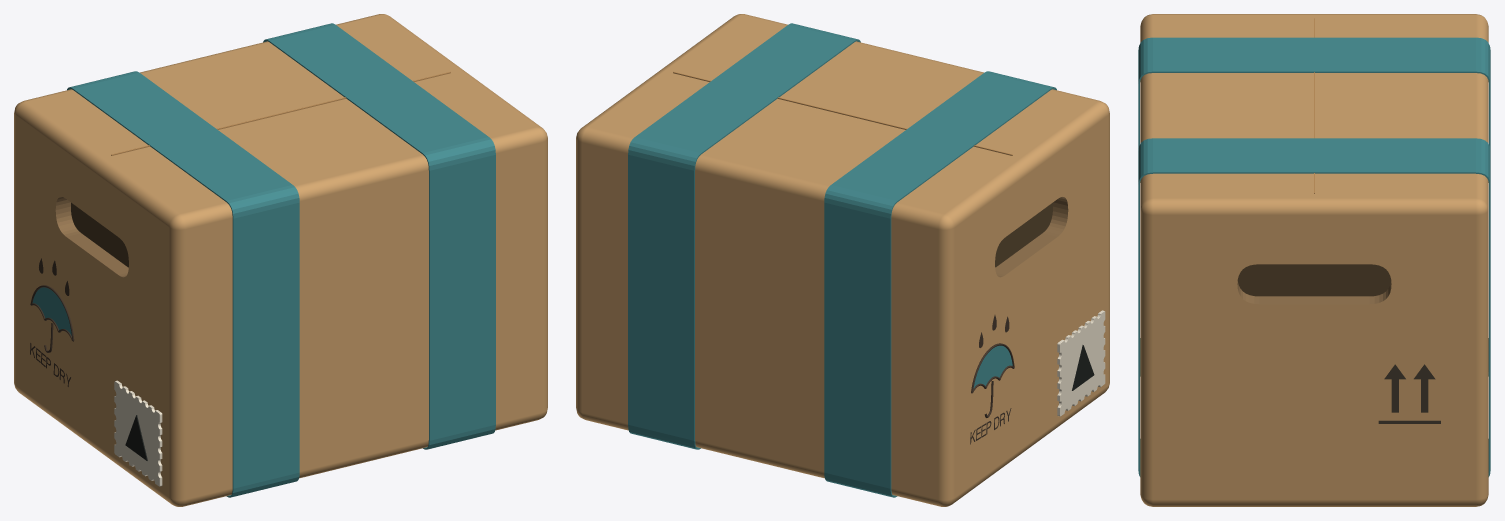
The model's file is play-parcel-large-teal.glb.
3 renders of one model, left to right at view 1: azimuth 30°, elevation 25°; view 2: azimuth 150°, elevation 25°; view 3: azimuth 270°, elevation 25°, orthographic. The views are drawn at different scales.
Parts seen in each view (by area): view 1: Parcel_Carton, Parcel_Tape_Parallel_1, Parcel_Tape_Parallel_2, Parcel_Paper_Label, Parcel_Carry_Slot_Walls_Negative_X, Parcel_Carry_Slot_Interior_Negative_X, Parcel_Care_Umbrella_Canopy; view 2: Parcel_Carton, Parcel_Tape_Parallel_1, Parcel_Tape_Parallel_2, Parcel_Paper_Label, Parcel_Carry_Slot_Walls_Negative_X, Parcel_Carry_Slot_Interior_Negative_X, Parcel_Care_Umbrella_Canopy; view 3: Parcel_Carton, Parcel_Tape_Parallel_2, Parcel_Tape_Parallel_1, Parcel_Carry_Slot_Interior_Positive_X, Parcel_Carry_Slot_Walls_Positive_X, Parcel_Up_Arrows_Positive_X.
Boxes of the visible parts, x1=… form: Parcel_Carton: x1=14, y1=14, x2=547, y2=506; Parcel_Tape_Parallel_1: x1=67, y1=71, x2=299, y2=497; Parcel_Tape_Parallel_2: x1=263, y1=23, x2=495, y2=449; Parcel_Paper_Label: x1=114, y1=380, x2=162, y2=486; Parcel_Carry_Slot_Walls_Negative_X: x1=55, y1=197, x2=128, y2=277; Parcel_Carry_Slot_Interior_Negative_X: x1=71, y1=202, x2=128, y2=267; Parcel_Care_Umbrella_Canopy: x1=32, y1=287, x2=71, y2=335; Parcel_Carton: x1=576, y1=14, x2=1109, y2=506; Parcel_Tape_Parallel_1: x1=824, y1=71, x2=1056, y2=497; Parcel_Tape_Parallel_2: x1=628, y1=23, x2=860, y2=449; Parcel_Paper_Label: x1=1057, y1=310, x2=1105, y2=416; Parcel_Carry_Slot_Walls_Negative_X: x1=995, y1=197, x2=1068, y2=277; Parcel_Carry_Slot_Interior_Negative_X: x1=995, y1=202, x2=1052, y2=267; Parcel_Care_Umbrella_Canopy: x1=973, y1=345, x2=1012, y2=388; Parcel_Carton: x1=1140, y1=14, x2=1488, y2=506; Parcel_Tape_Parallel_2: x1=1138, y1=138, x2=1490, y2=476; Parcel_Tape_Parallel_1: x1=1138, y1=37, x2=1490, y2=376; Parcel_Carry_Slot_Interior_Positive_X: x1=1237, y1=264, x2=1391, y2=296; Parcel_Carry_Slot_Walls_Positive_X: x1=1237, y1=281, x2=1391, y2=304; Parcel_Up_Arrows_Positive_X: x1=1378, y1=364, x2=1440, y2=423.
Size of the model in its own units: 0.253 by 0.187 by 0.192.
